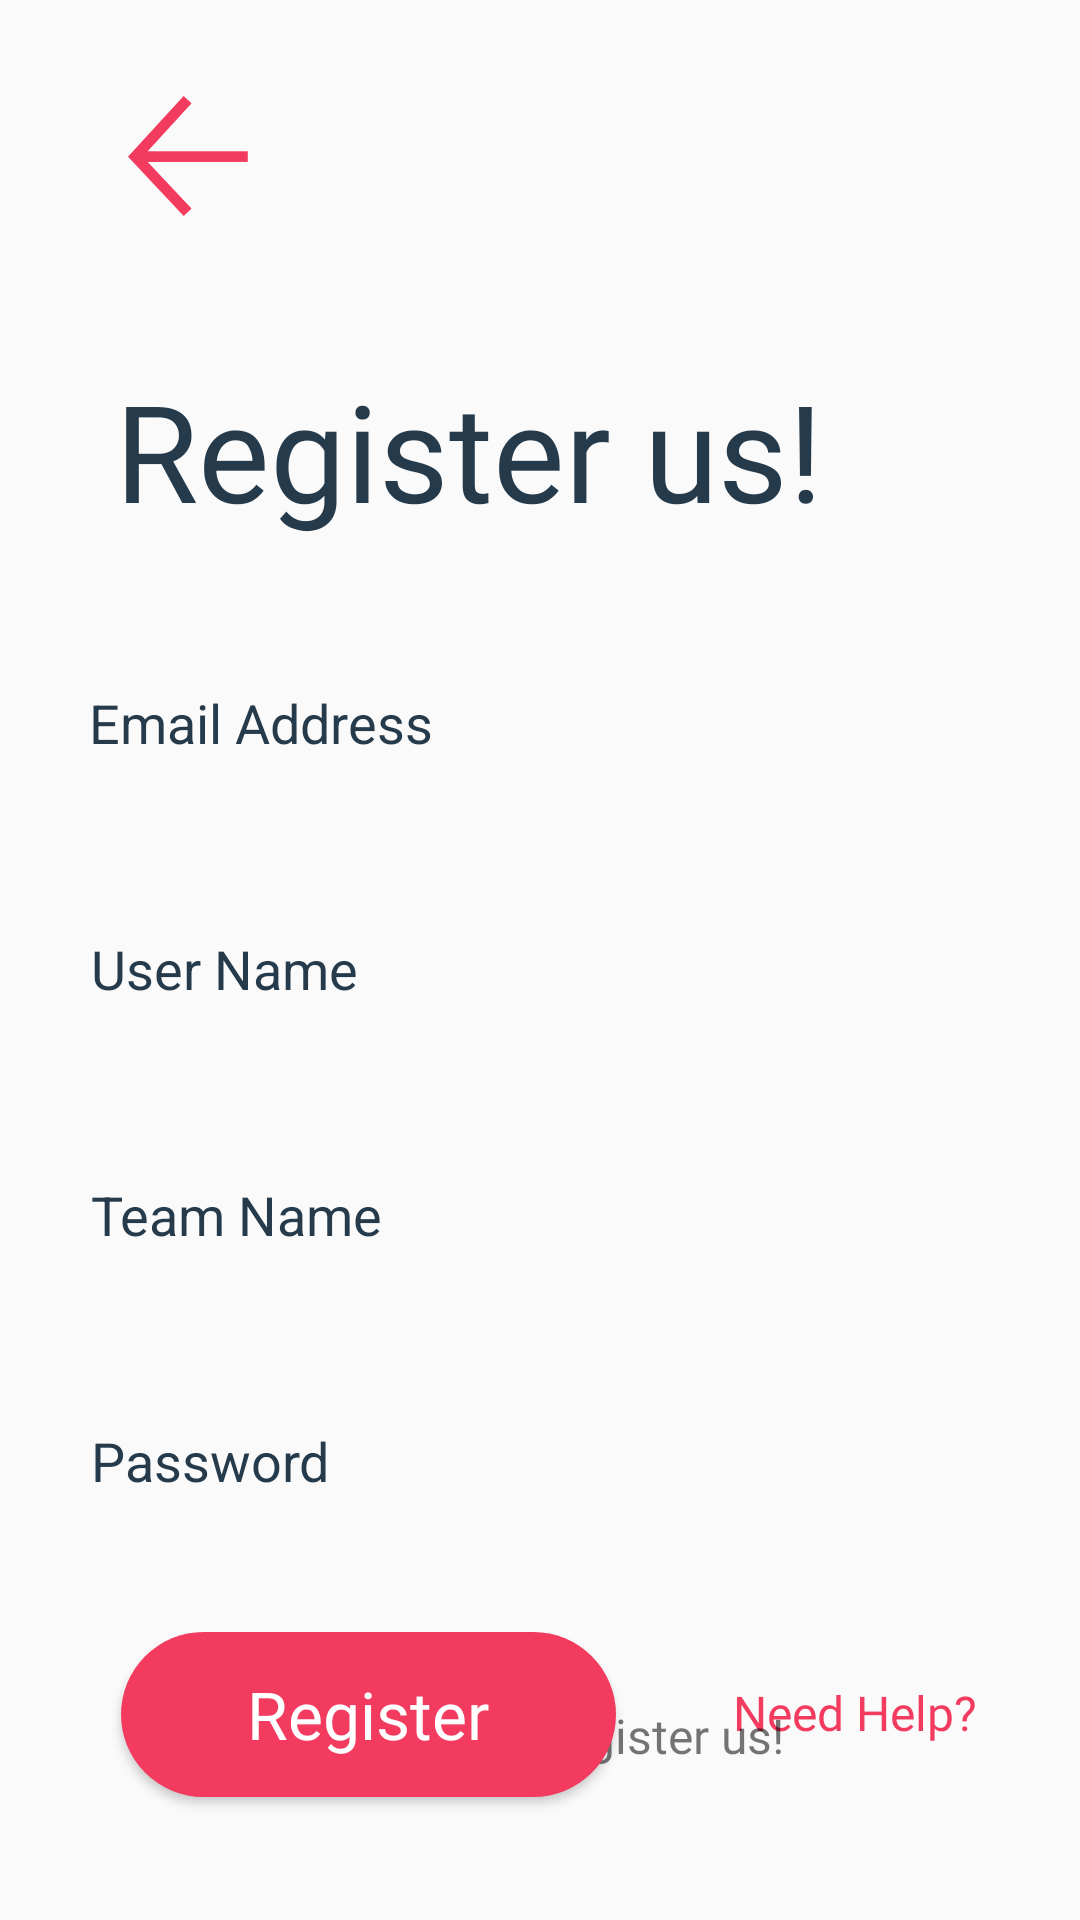

Where to tap for icons on this 1080px×1920px app screen, as [x,y]:
backbutton: [188,156]
